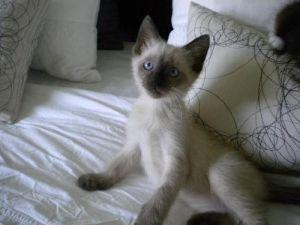siamese: (126, 16, 213, 109)
